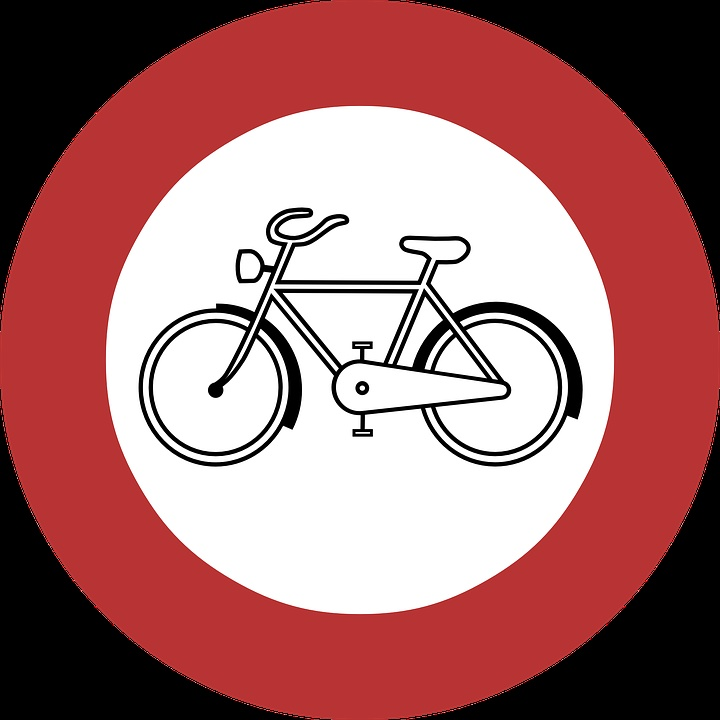bicycle: (127, 109, 588, 570)
